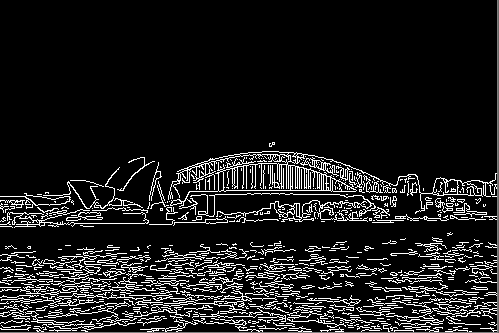opera house: (48, 140, 196, 223)
